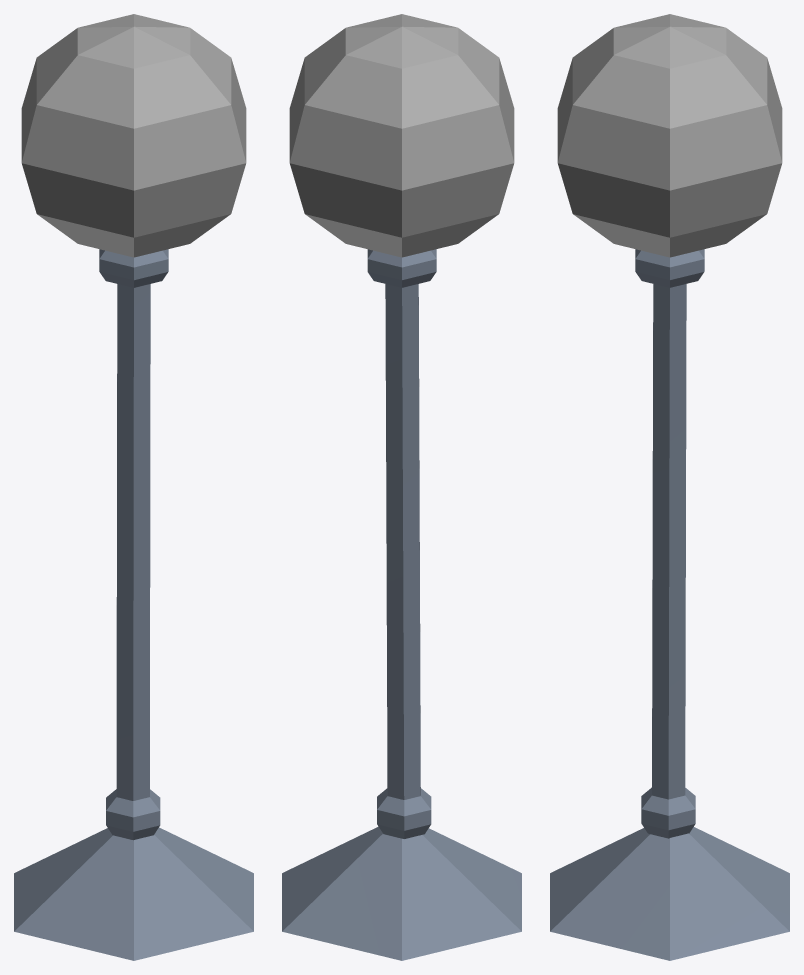
Rendered from g_o_StandingLamp_02.fbx.
The picture shows the model from 3 angles, left to right: view 1: azimuth 30°, elevation 25°; view 2: azimuth 150°, elevation 25°; view 3: azimuth 270°, elevation 25°; orthographic projection.
Parts seen in each view (by area): view 1: StandingLamp_002; view 2: StandingLamp_002; view 3: StandingLamp_002.
Boxes of the visible parts, x1,y1,x2,y2 form: StandingLamp_002: [14, 14, 253, 960]; StandingLamp_002: [282, 14, 521, 960]; StandingLamp_002: [550, 14, 789, 960].
Bounding box in the file's own units: 0.431 × 1.5 × 0.3733.
